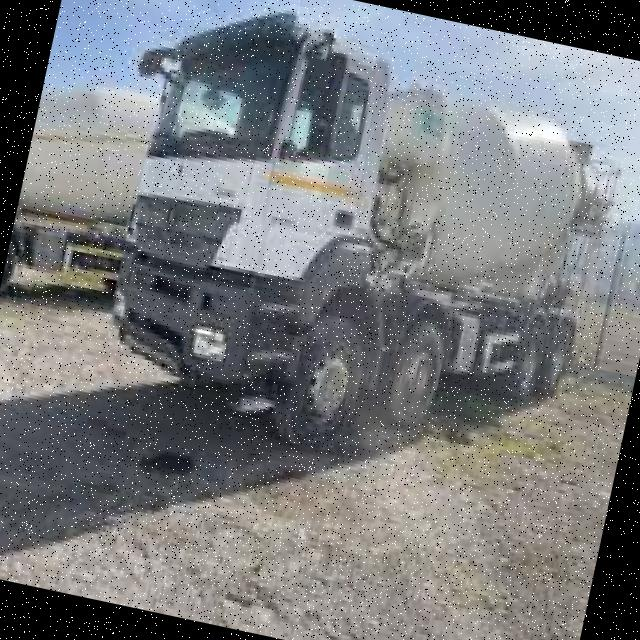Mixer Truck: (66, 0, 638, 504), (0, 64, 242, 345)
